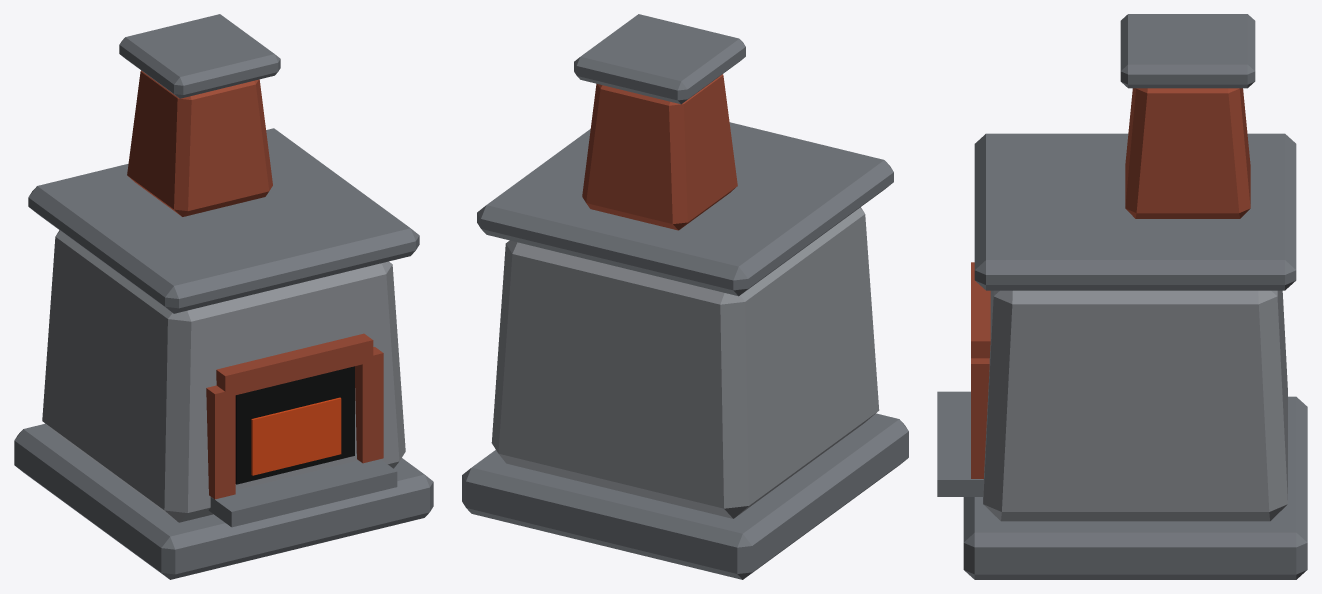
The model's file is hand_furnace.fbx.
3 views of the same model, side by side, from view 1: azimuth 30°, elevation 25°; view 2: azimuth 150°, elevation 25°; view 3: azimuth 270°, elevation 25° (orthographic). The views are drawn at different scales.
Parts seen in each view (by area): view 1: hand_furnace; view 2: hand_furnace; view 3: hand_furnace.
Part boxes in pixels (x1,y1,x2,y2): hand_furnace: (14,14,433,579); hand_furnace: (462,14,908,579); hand_furnace: (937,14,1307,579).
Size of the model in its own units: 2.76 by 4.19 by 2.97.
